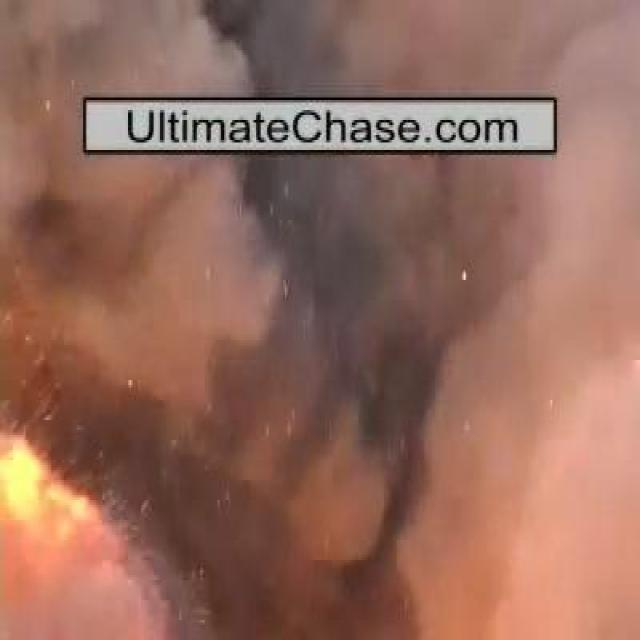Smoke: (56, 162, 562, 566)
